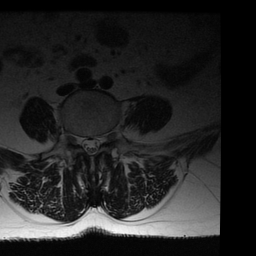CCS_normal: (87, 128, 95, 163)
LFS_normal: (102, 124, 111, 149)
LLS_normal: (94, 127, 102, 158)
RFS_normal: (72, 126, 80, 153)
RLS_normal: (80, 128, 87, 156)
